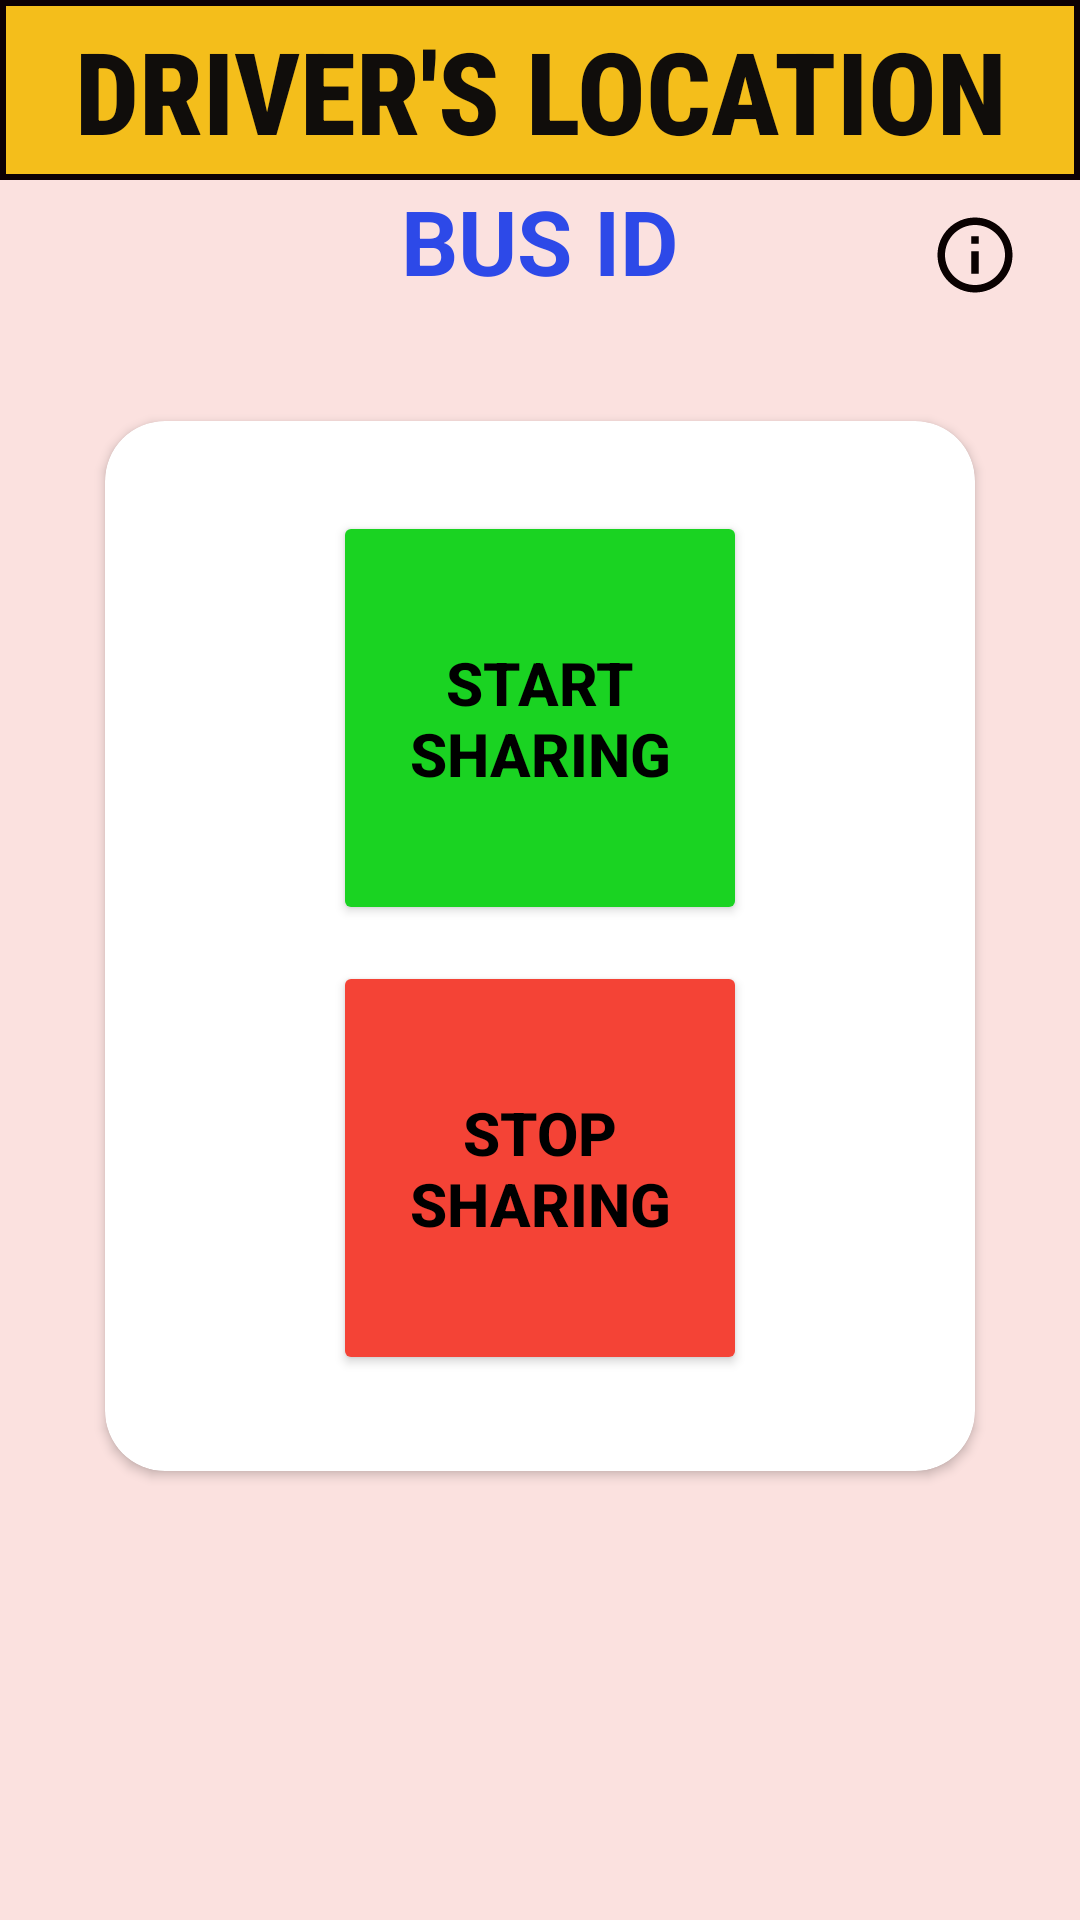

Screen size 1080 x 1920. Icon name, then its box in pixels as (x1, y1, x2, y2):
info: (937, 217, 1013, 293)
